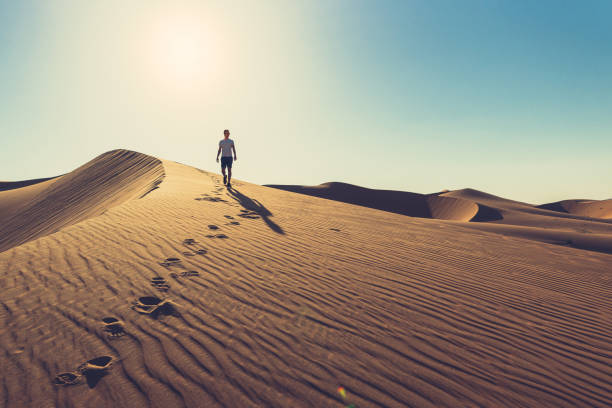human_footprint: (53, 355, 113, 387), (132, 296, 179, 316), (102, 317, 125, 337), (182, 238, 206, 256), (151, 276, 169, 291), (170, 270, 199, 278), (159, 257, 180, 267), (238, 210, 260, 218), (195, 196, 226, 201), (206, 233, 228, 238), (183, 238, 197, 245), (195, 248, 207, 254), (181, 251, 194, 256), (208, 224, 218, 229), (226, 221, 239, 224), (330, 228, 340, 231), (224, 215, 233, 218)
